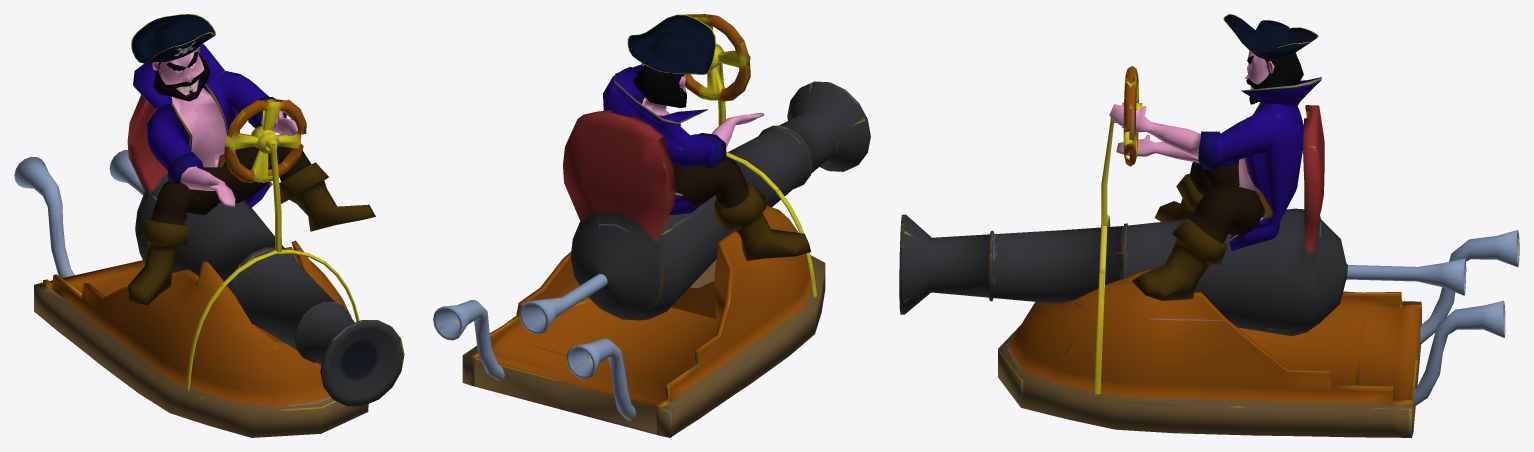
Rendered from pirataGiroDer_000180.obj.
3 views of the same model, side by side, from view 1: azimuth 30°, elevation 25°; view 2: azimuth 150°, elevation 25°; view 3: azimuth 270°, elevation 25° (orthographic). The views are drawn at different scales.
Visible parts, largest first — view 1: carro_pirata, Pirata_PirataH_Pirata_PirataH.001; view 2: carro_pirata, Pirata_PirataH_Pirata_PirataH.001; view 3: carro_pirata, Pirata_PirataH_Pirata_PirataH.001.
Boxes of the visible parts, bbox=[...] form: carro_pirata: bbox=[14, 95, 404, 437]; Pirata_PirataH_Pirata_PirataH.001: bbox=[127, 14, 375, 305]; carro_pirata: bbox=[433, 14, 870, 437]; Pirata_PirataH_Pirata_PirataH.001: bbox=[603, 14, 810, 260]; carro_pirata: bbox=[899, 66, 1519, 437]; Pirata_PirataH_Pirata_PirataH.001: bbox=[1109, 14, 1321, 300].
Bounding box in the file's own units: 5.67 × 7.5 × 12.1.
Materials: 2 (2 with a texture image).
